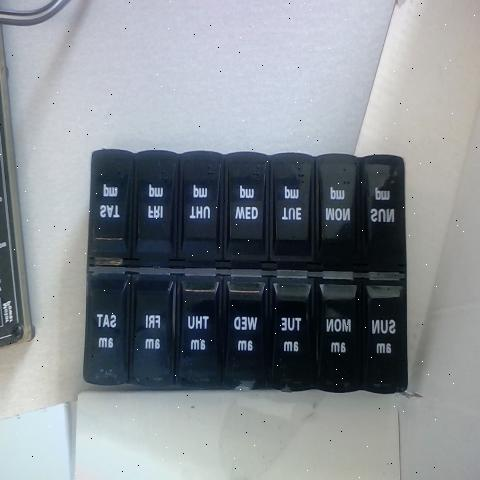FRI-am: (130, 269, 174, 384)
FRI-pm: (133, 150, 175, 259)
MON-am: (314, 274, 358, 390)
MON-pm: (316, 153, 359, 266)
SAT-am: (81, 268, 131, 390)
SAT-pm: (89, 146, 130, 262)
SUN-pm: (361, 275, 403, 389), (363, 152, 402, 264)
THU-am: (177, 272, 221, 384)
THU-pm: (181, 152, 223, 262)
TUE-am: (271, 274, 315, 388)
TUE-pm: (268, 154, 312, 263)
WED-am: (224, 271, 270, 384)
WED-pm: (226, 152, 266, 260)
